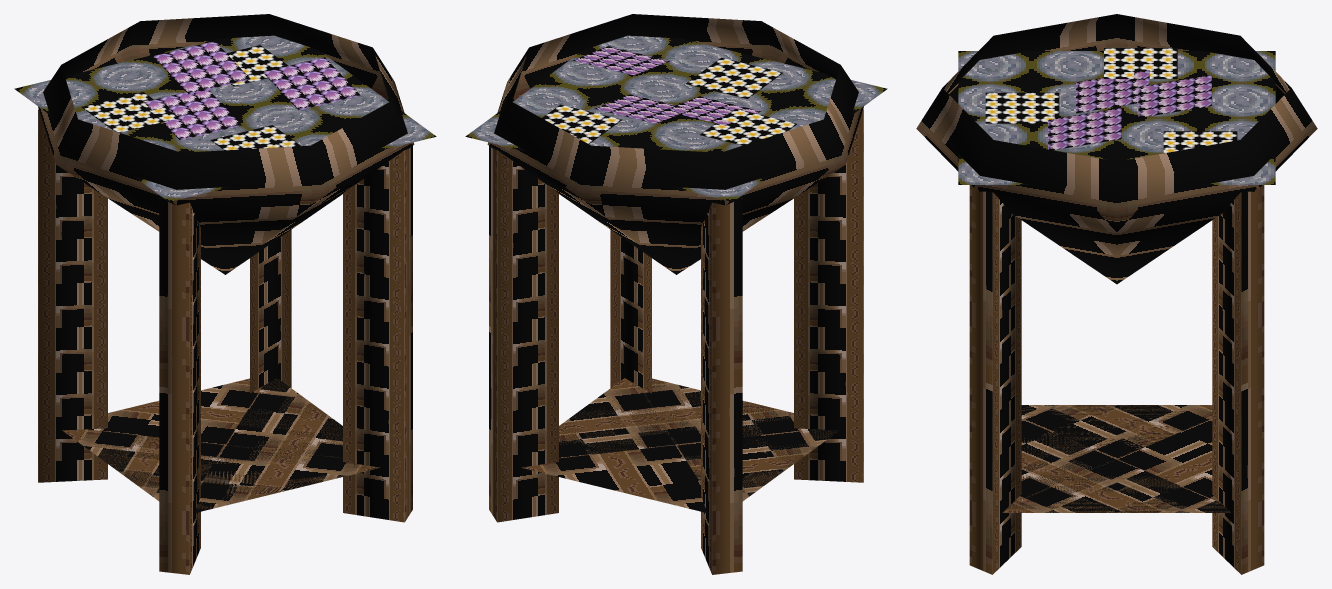
The picture shows the model from 3 angles, left to right: view 1: azimuth 30°, elevation 25°; view 2: azimuth 150°, elevation 25°; view 3: azimuth 270°, elevation 25°; orthographic projection. The views are drawn at different scales.
Parts seen in each view (by area): view 1: 3368kg_sh2_09; view 2: 3368kg_sh2_09; view 3: 3368kg_sh2_09.
Boxes of the visible parts, bbox=[...] form: 3368kg_sh2_09: bbox=[14, 14, 436, 574]; 3368kg_sh2_09: bbox=[465, 14, 887, 574]; 3368kg_sh2_09: bbox=[916, 14, 1317, 574].
Bounding box in the file's own units: 0.6426 × 0.7483 × 0.6426.
4 materials, 4 textured.
